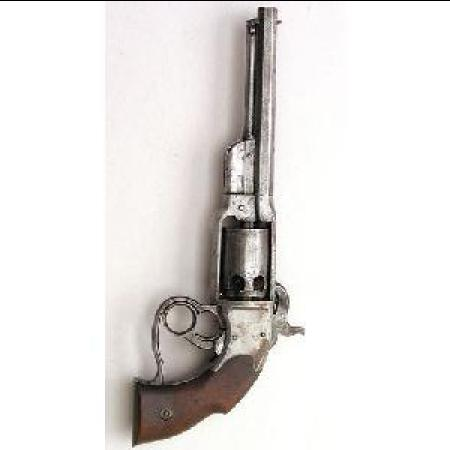Pistol: (133, 8, 298, 448)
